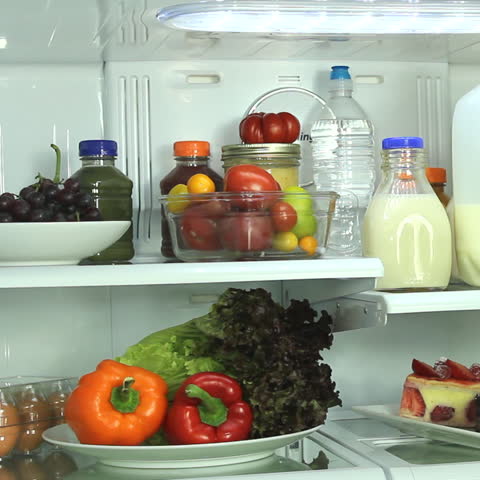milk: (361, 138, 452, 291), (451, 86, 478, 288)
